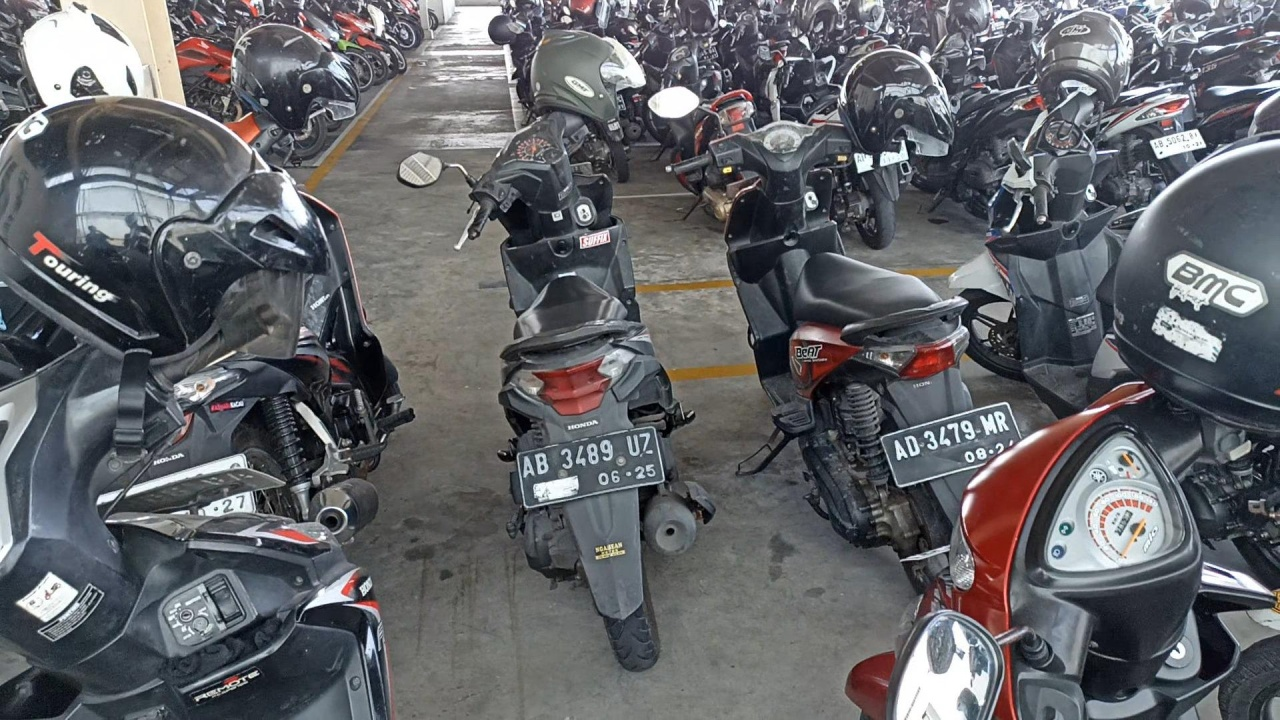plate: (518, 423, 666, 509), (881, 402, 1023, 489)
